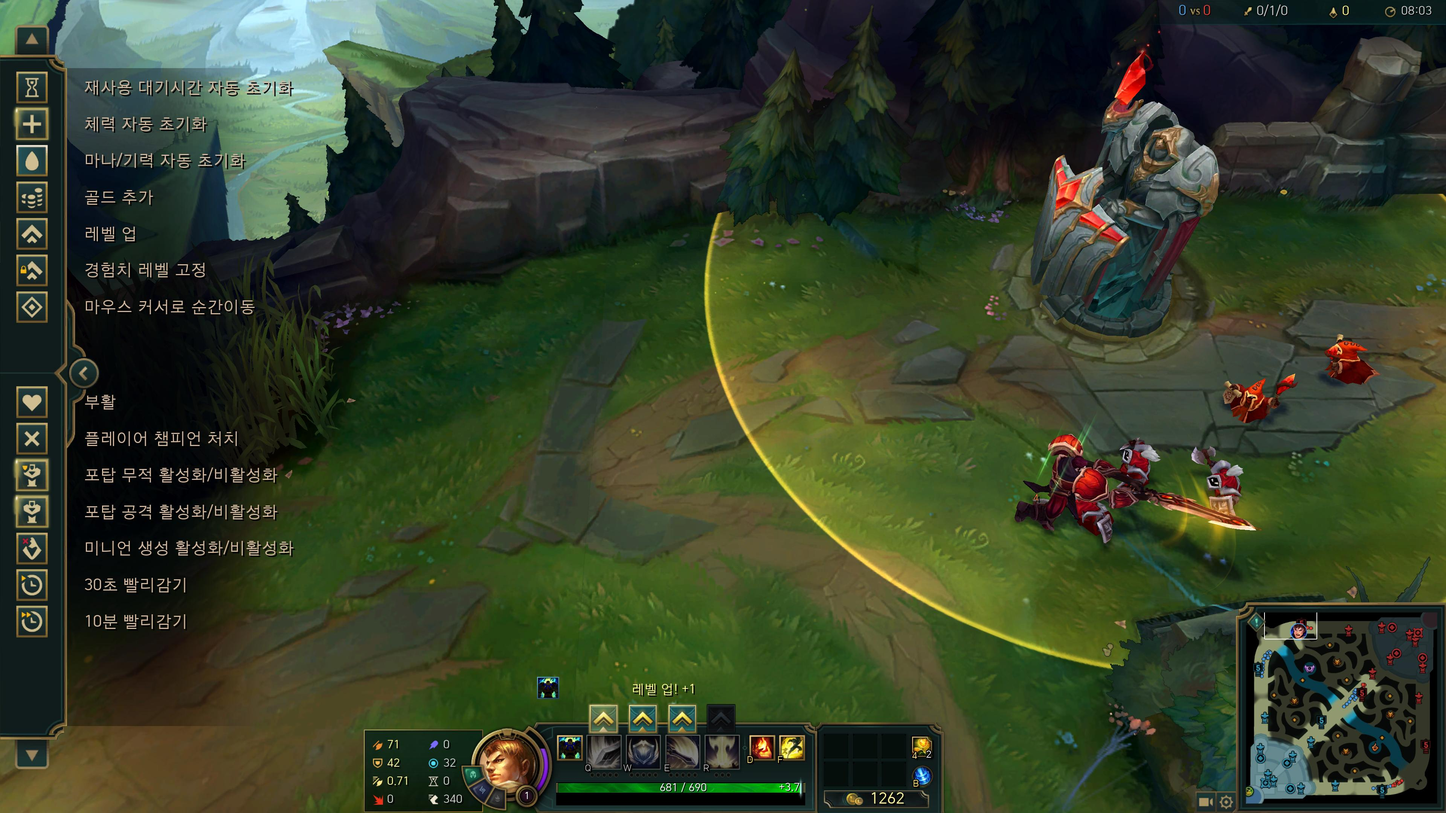enemy-caster-minion: (1220, 374, 1296, 422), (1322, 334, 1380, 387)
enemy-tower: (1008, 47, 1218, 362)
